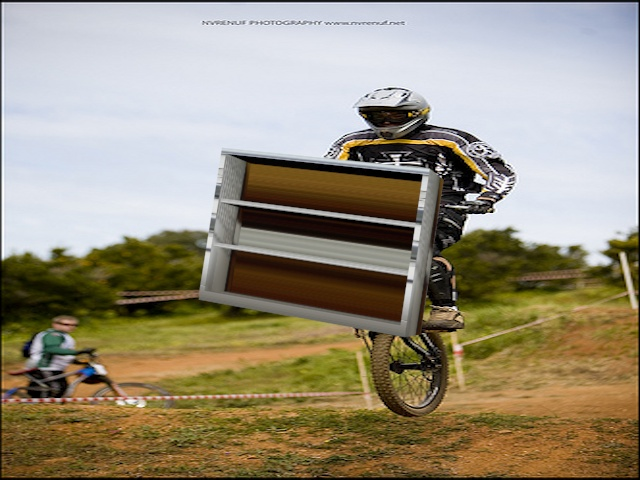bookcase: (193, 145, 449, 344)
